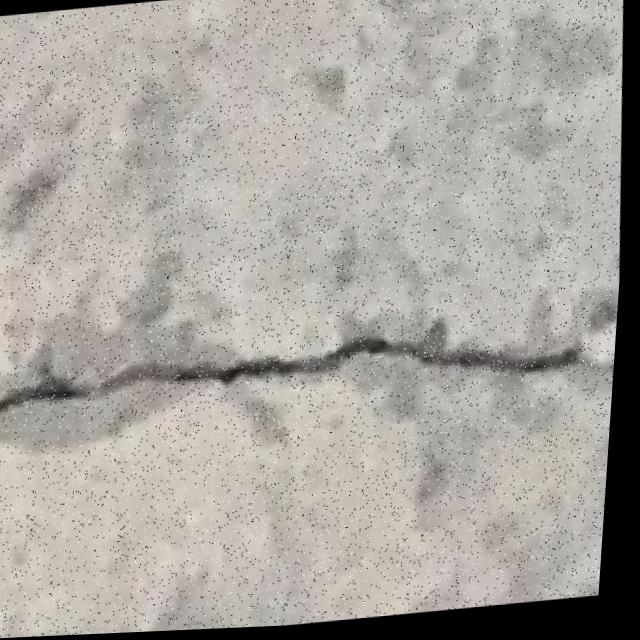Crack: (0, 309, 623, 451)
